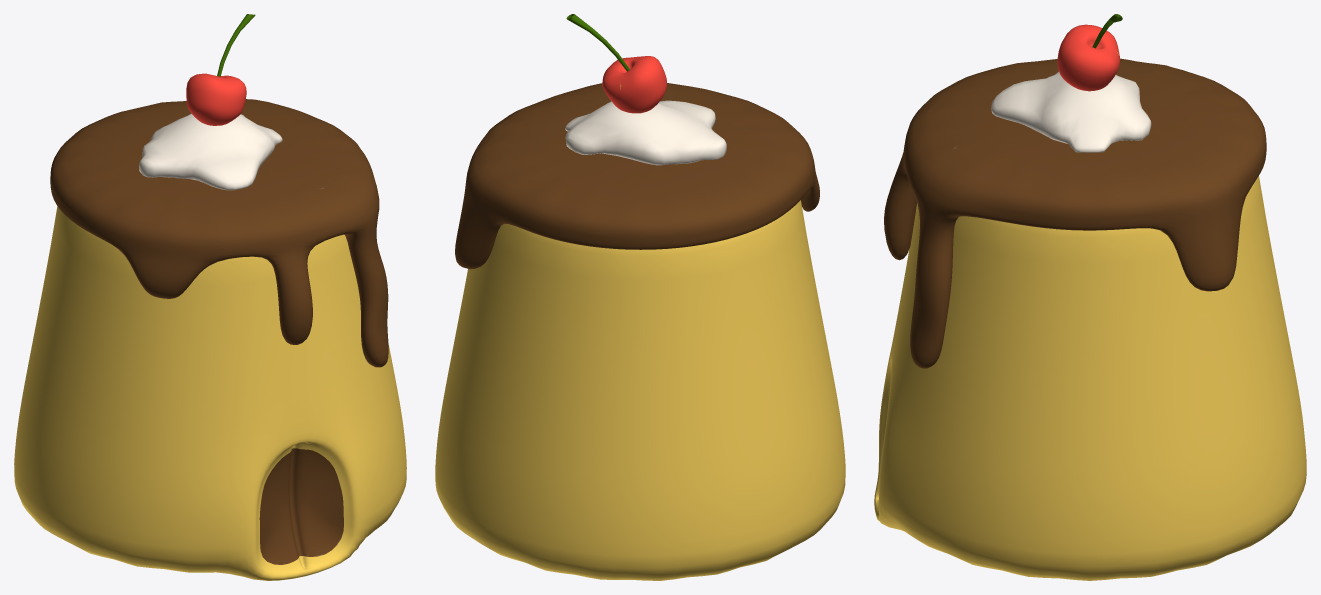
Rendered from Pudding.fbx.
3 renders of one model, left to right at view 1: azimuth 30°, elevation 25°; view 2: azimuth 150°, elevation 25°; view 3: azimuth 270°, elevation 25°, orthographic. The views are drawn at different scales.
Visible parts, largest first — view 1: Cylinder, Cylinder.001, Cube, Roundcube; view 2: Cylinder, Cylinder.001, Cube, Roundcube; view 3: Cylinder, Cylinder.001, Cube, Roundcube.
Boxes of the visible parts, box(x1,y1,x2,y2) form: Cylinder: box(14, 206, 406, 580); Cylinder.001: box(50, 99, 388, 367); Cube: box(139, 113, 282, 190); Roundcube: box(186, 73, 246, 125); Cylinder: box(435, 200, 845, 580); Cylinder.001: box(455, 83, 819, 269); Cube: box(565, 100, 726, 165); Roundcube: box(602, 56, 667, 113); Cylinder: box(874, 176, 1306, 580); Cylinder.001: box(884, 58, 1266, 368); Cube: box(991, 72, 1151, 152); Roundcube: box(1057, 24, 1120, 91).
Size of the model in its own units: 196 by 263 by 195.
Materials: 1 (1 with a texture image).
